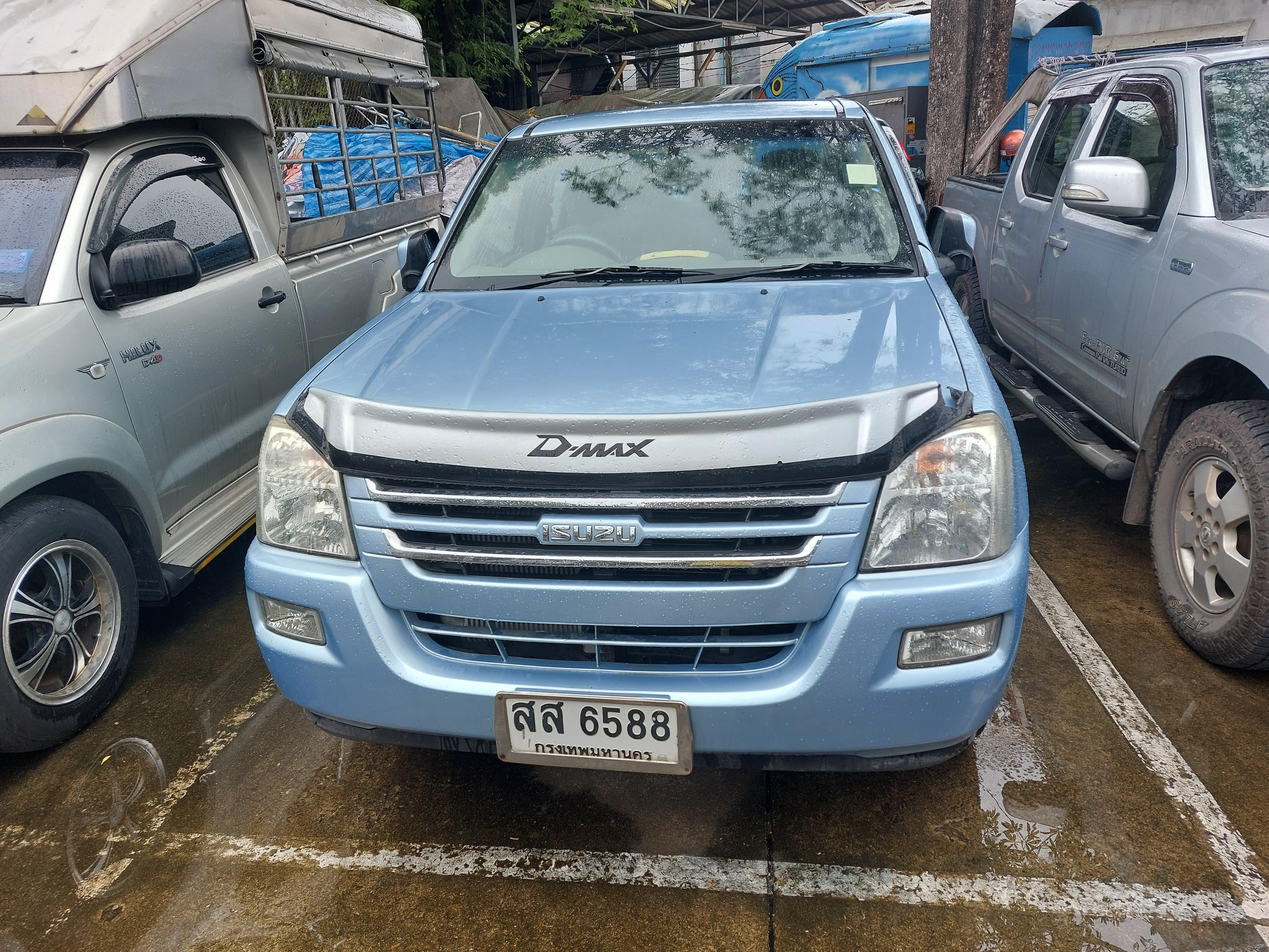license-plate: (493, 686, 696, 779)
